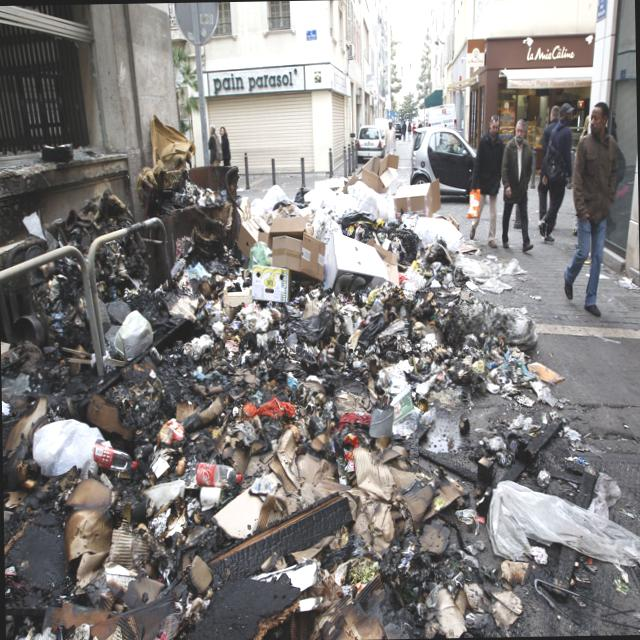garbage: (16, 97, 482, 640)
